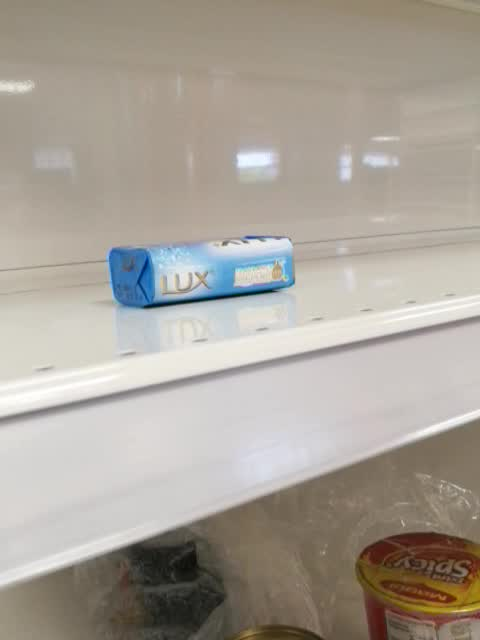soap: (105, 234, 296, 310)
